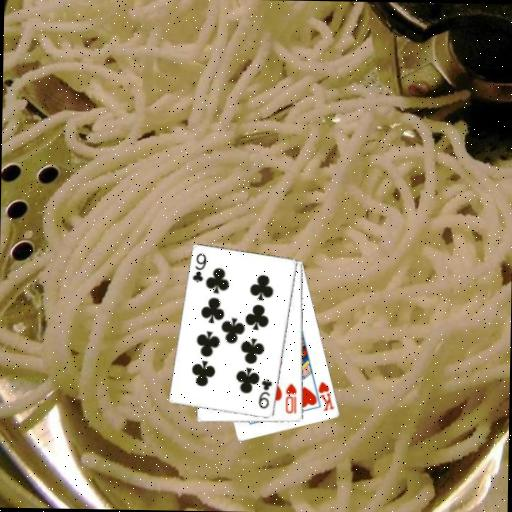10H: (283, 380, 299, 415)
9C: (255, 376, 274, 411), (190, 250, 209, 284)
KH: (315, 379, 336, 413)
